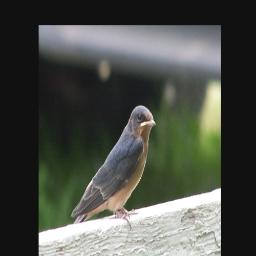Swallow: (70, 104, 156, 231)
